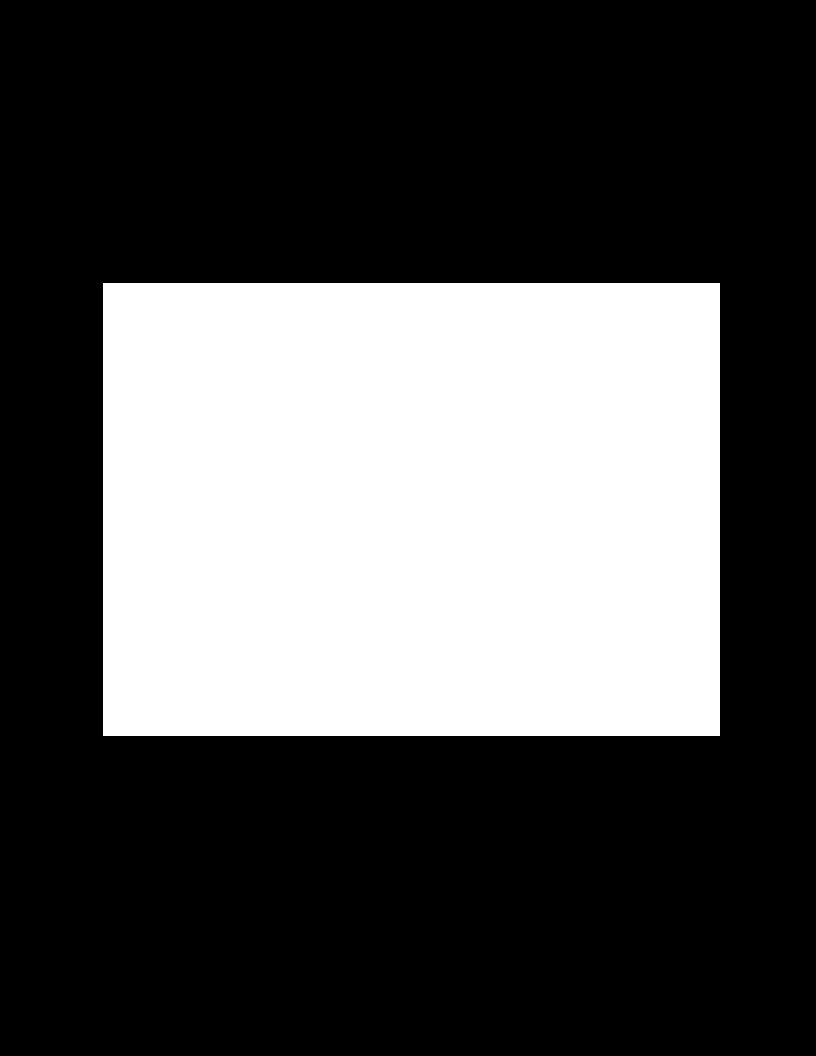table: (103, 283, 719, 735)
